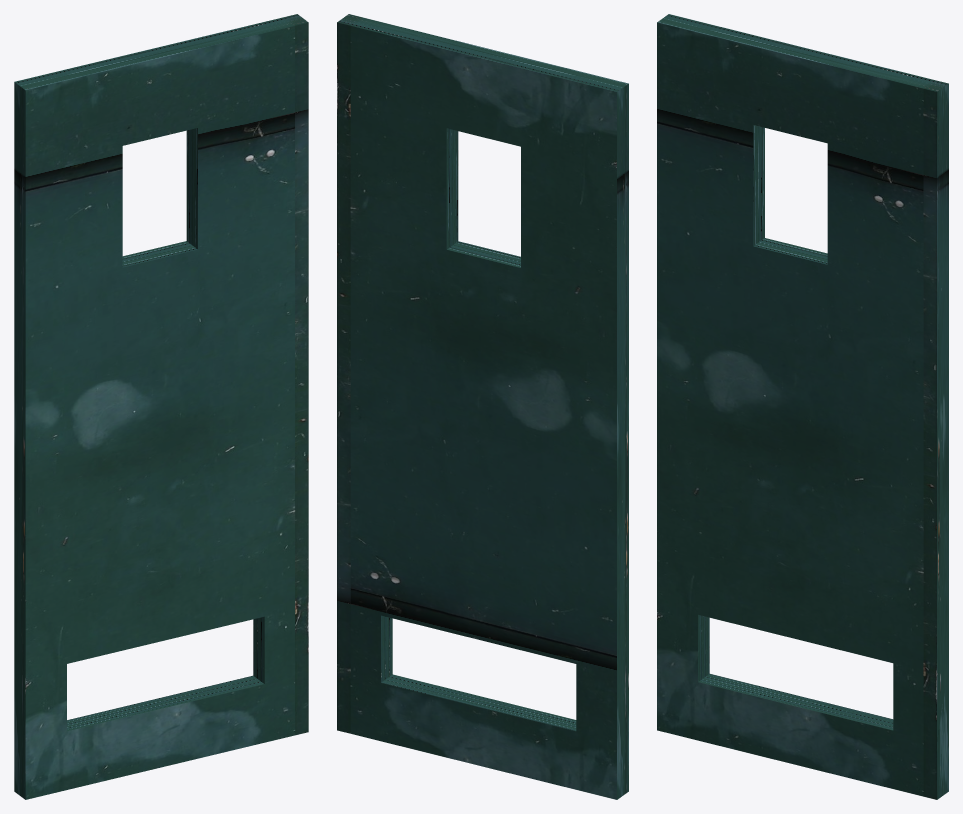
The model's file is puerta PIVOTE - Puesto de Control (Cabina).fbx.
3 renders of one model, left to right at view 1: azimuth 30°, elevation 25°; view 2: azimuth 150°, elevation 25°; view 3: azimuth 330°, elevation 25°, orthographic.
Parts seen in each view (by area): view 1: pCube2; view 2: pCube2; view 3: pCube2.
Part boxes in pixels (x1,y1,x2,y2): pCube2: [14, 14, 308, 799]; pCube2: [337, 14, 628, 799]; pCube2: [657, 14, 948, 799].
Size of the model in its own units: 7.08 by 17.01 by 0.5588.
Materials: 1 (1 with a texture image).
